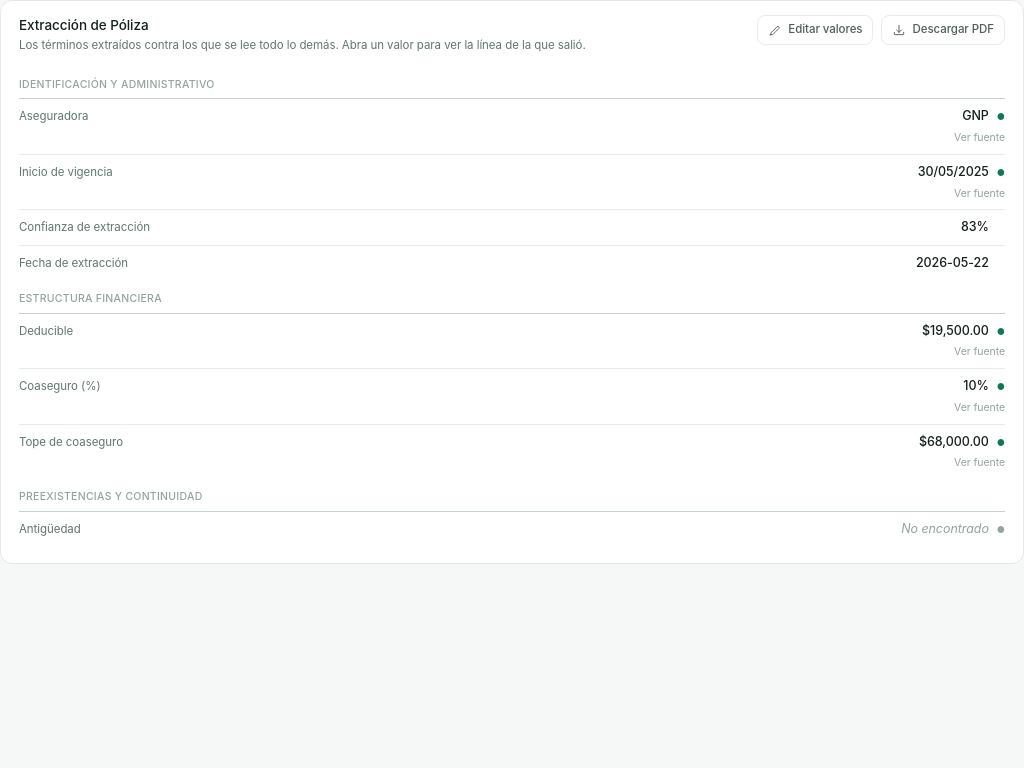
Test: PolicyExtractionCard › lets the reviewer correct a value the analysis misread
Click the button "Editar valores".
click(815, 30)  # box 757,15 -> 873,45
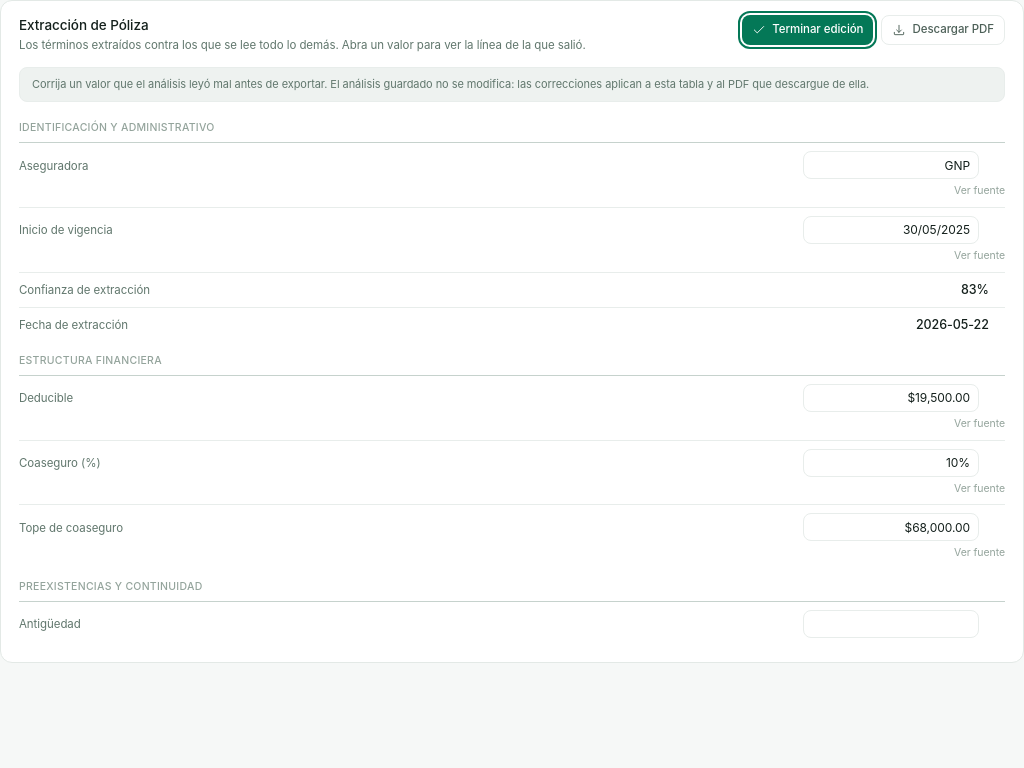
Expected: the field named "Valor de Deducible" holds "$19,500.00"
Replace the text in the field named "Valor de Deducible" with "$15,000.00" at (891,398), box 803,384 -> 979,412
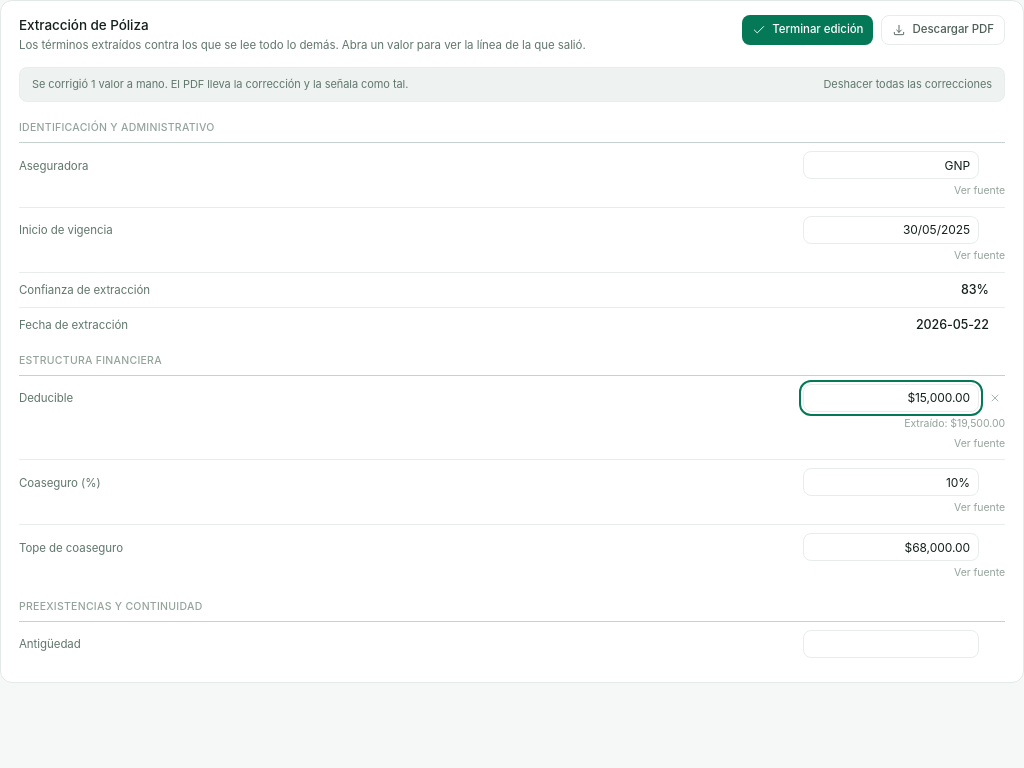
Click the button "Terminar edición".
click(808, 30)  # box 742,15 -> 874,45
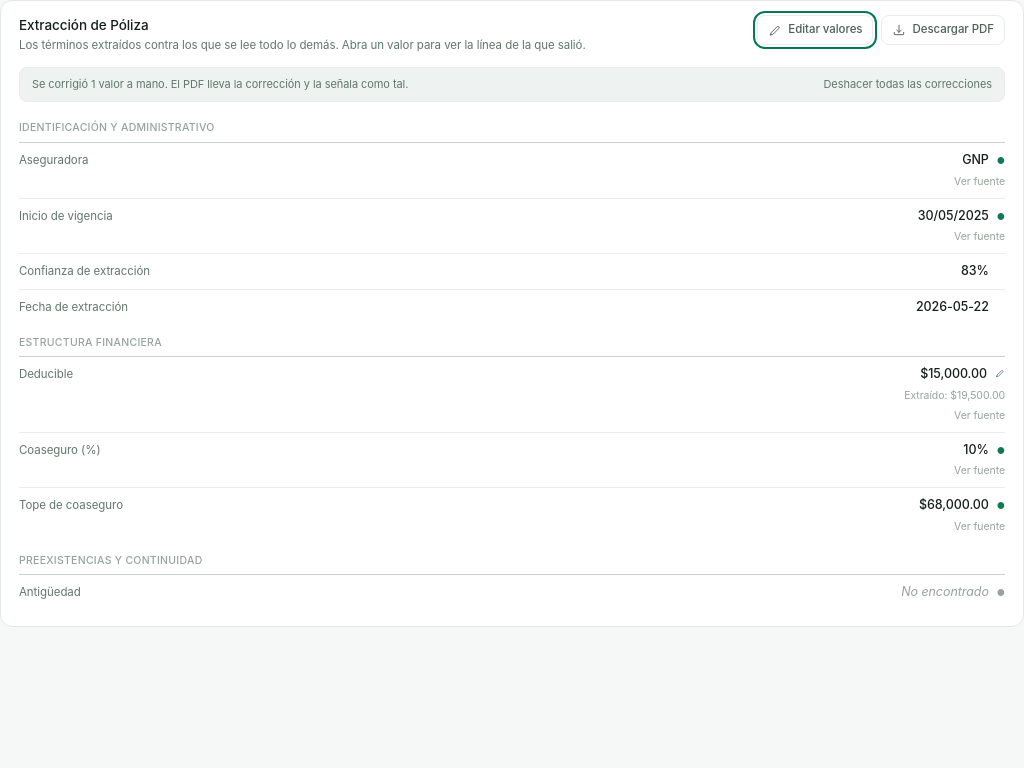
Expected: the text "Extraído: $19,500.00" is shown, 904,388 -> 1005,404
Expected: the text "Se corrigió 1 valor a mano" is shown, 32,76 -> 408,90
Expected: the text "$15,000.00" is shown, 920,365 -> 987,384
